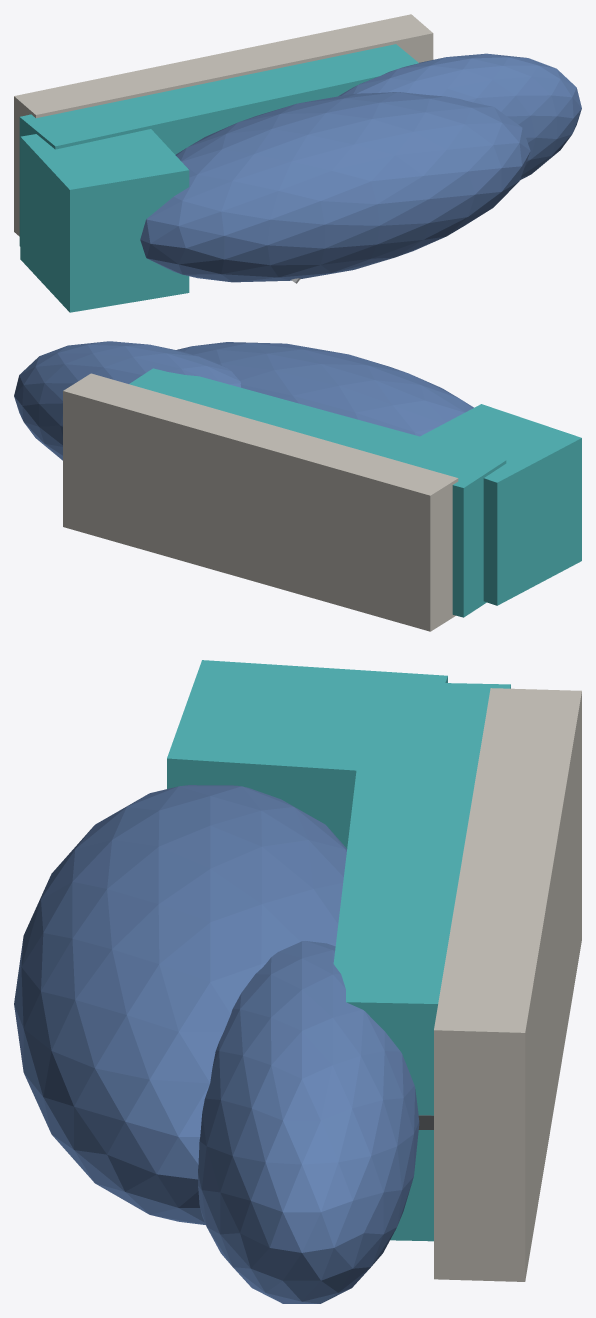
3 views of the same model, one above another, from view 1: azimuth 30°, elevation 25°; view 2: azimuth 150°, elevation 25°; view 3: azimuth 270°, elevation 25° (orthographic). The views are drawn at different scales.
Visible parts, largest first — view 1: geometry_0; view 2: geometry_0; view 3: geometry_0.
Boxes of the visible parts, bbox=[...] form: geometry_0: bbox=[14, 14, 581, 312]; geometry_0: bbox=[14, 341, 581, 631]; geometry_0: bbox=[14, 660, 581, 1303].
Bounding box in the file's own units: 0.4341 × 0.114 × 0.217.
